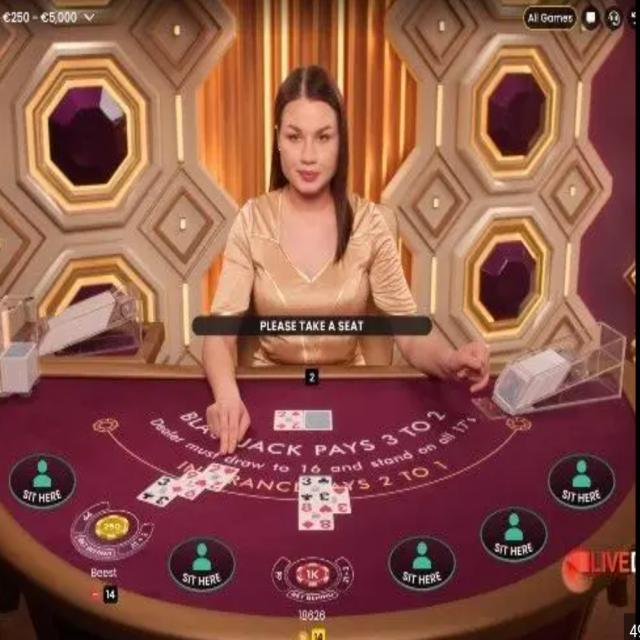Card-2: (195, 463, 238, 493)
Card-3: (137, 474, 177, 507), (318, 487, 350, 513), (300, 476, 331, 499), (275, 409, 303, 430)
Card-8: (300, 499, 333, 529)
Card-9: (169, 469, 205, 500)
